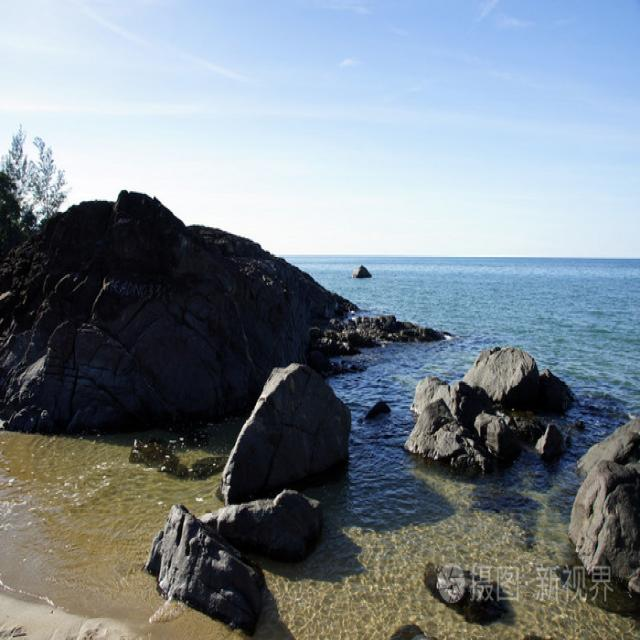reef: (117, 382, 380, 634), (188, 215, 418, 389), (392, 317, 566, 486)
